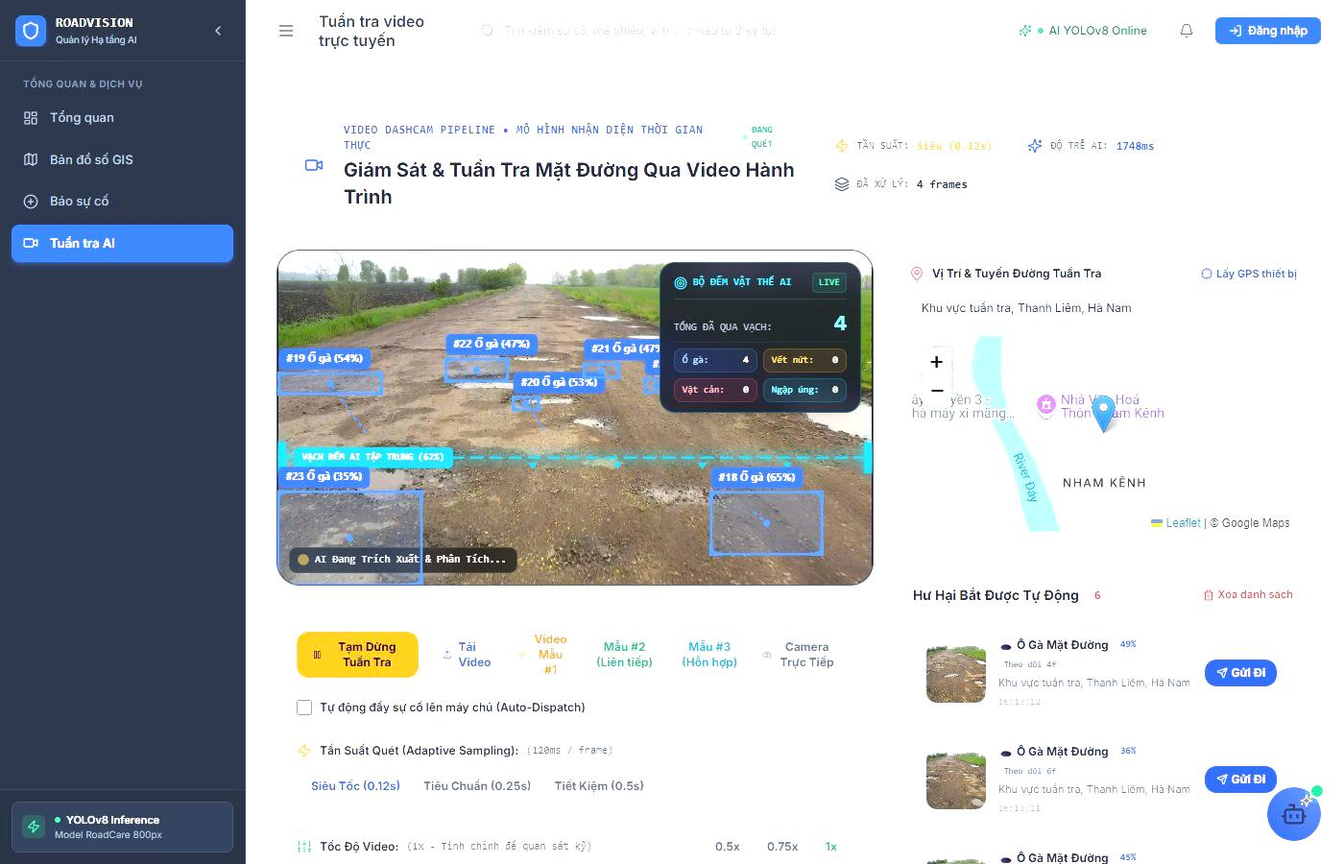POTHOLE: (396, 402, 786, 635)
